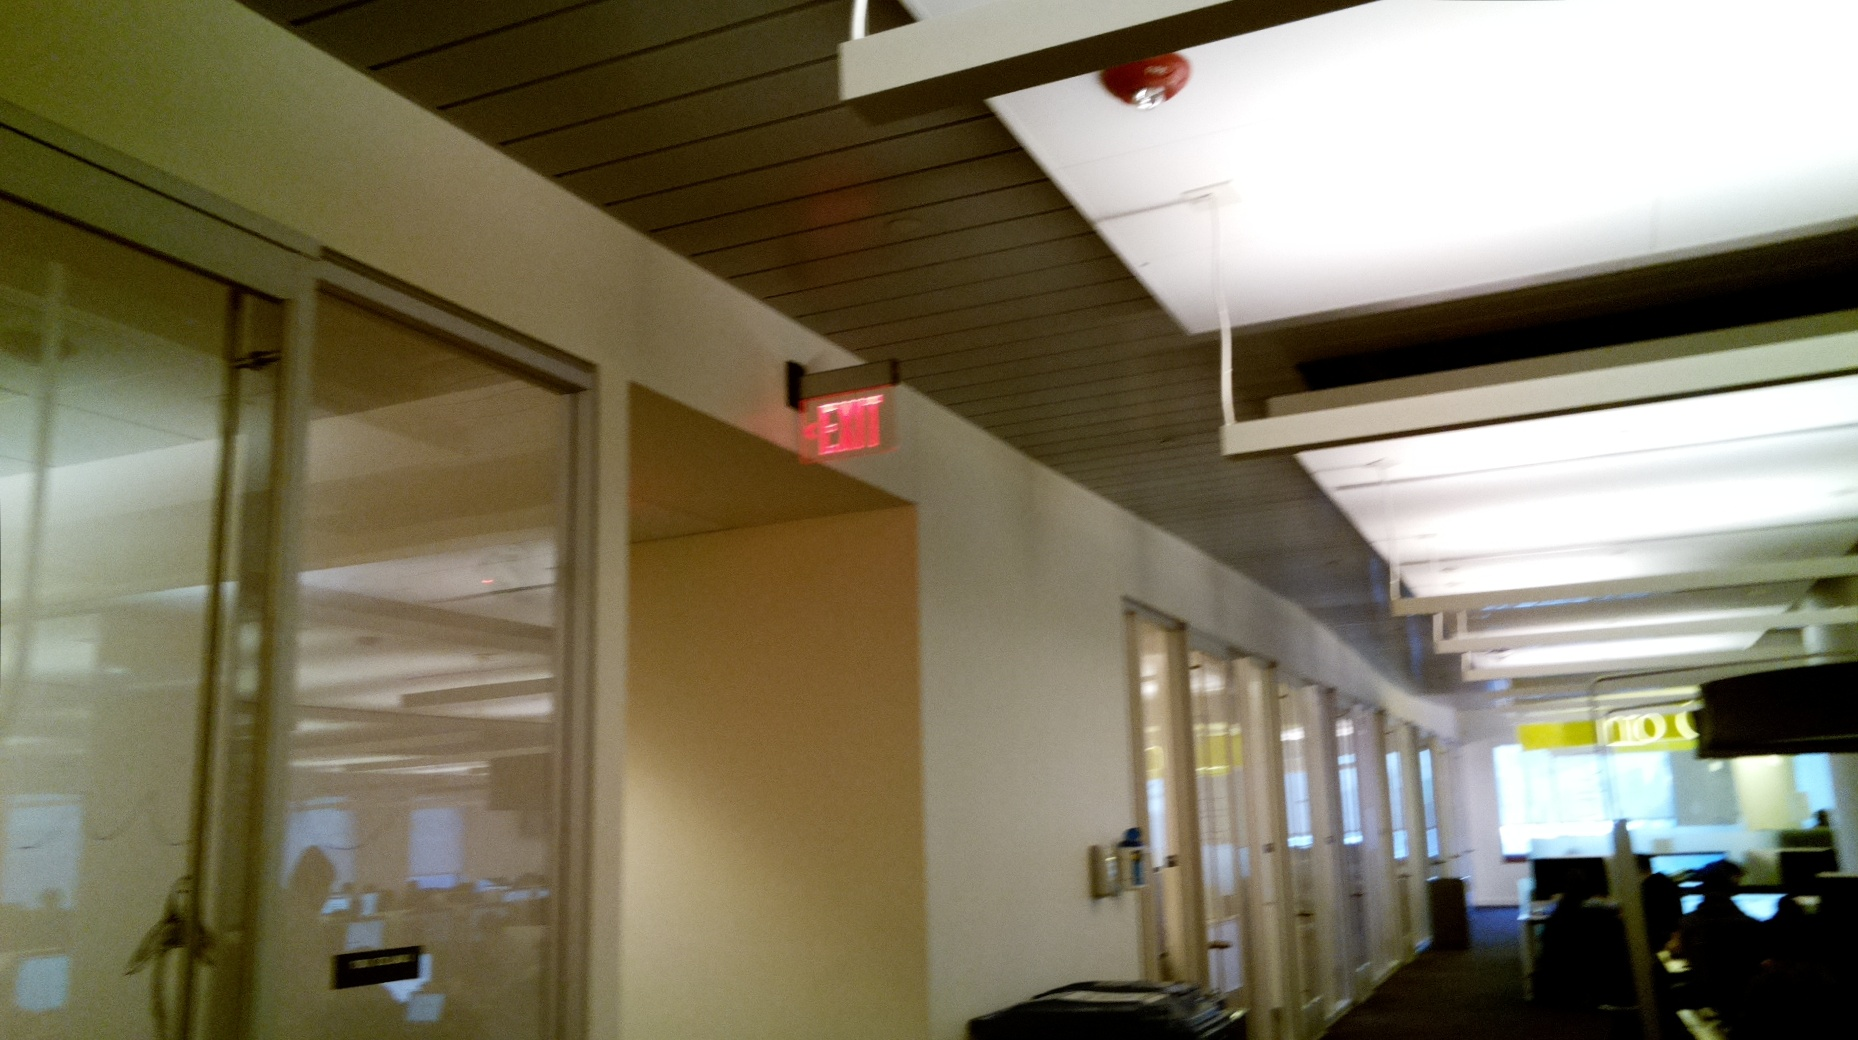exit sign: (795, 376, 909, 468)
